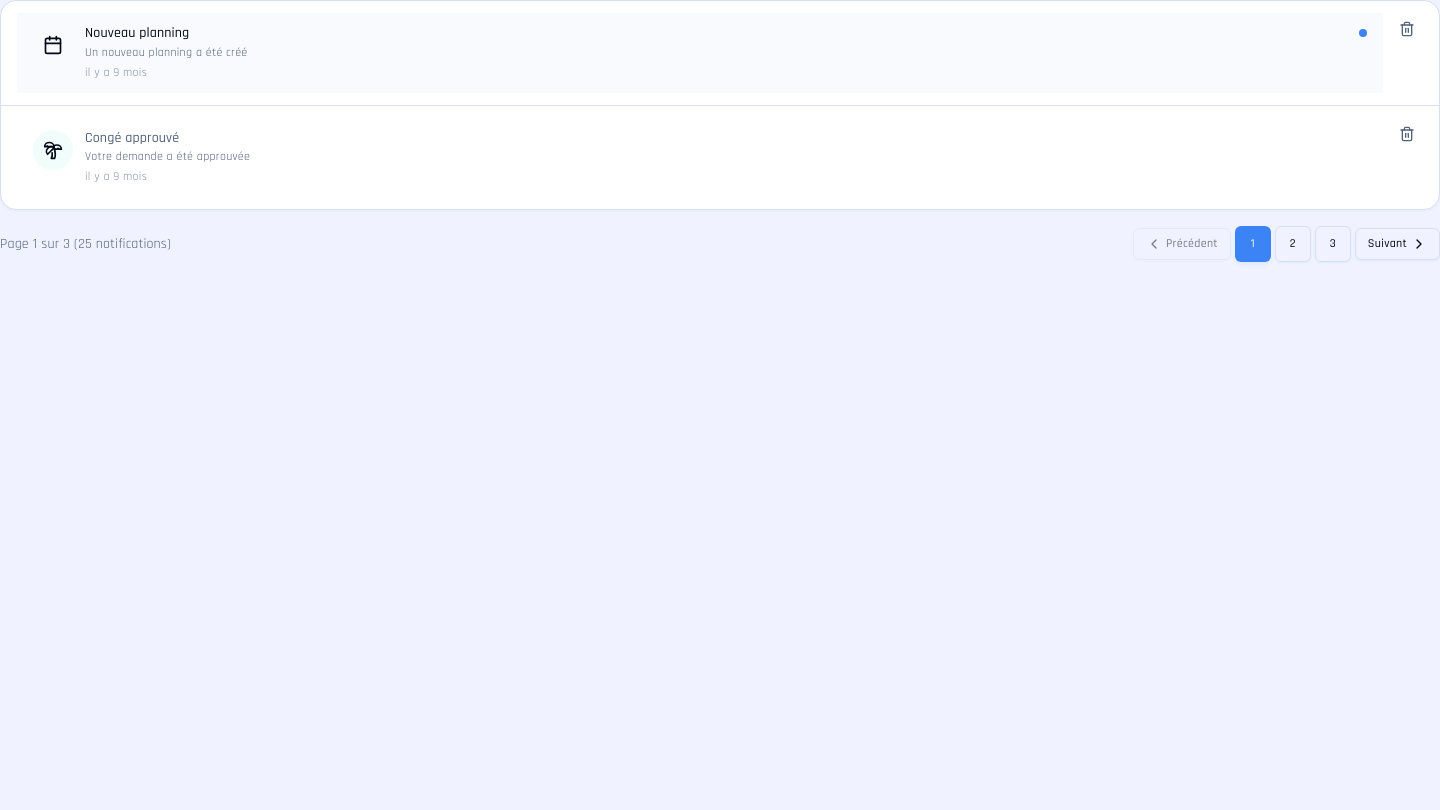
NotificationsTable › devrait ouvrir la dialog de suppression au clic
What coordinates should you click on to do the following:
click the button with test id "delete-notification-notif-1"
I would click on:
 (1407, 29)
Its box is top-left (1391, 13), bottom-right (1423, 45).
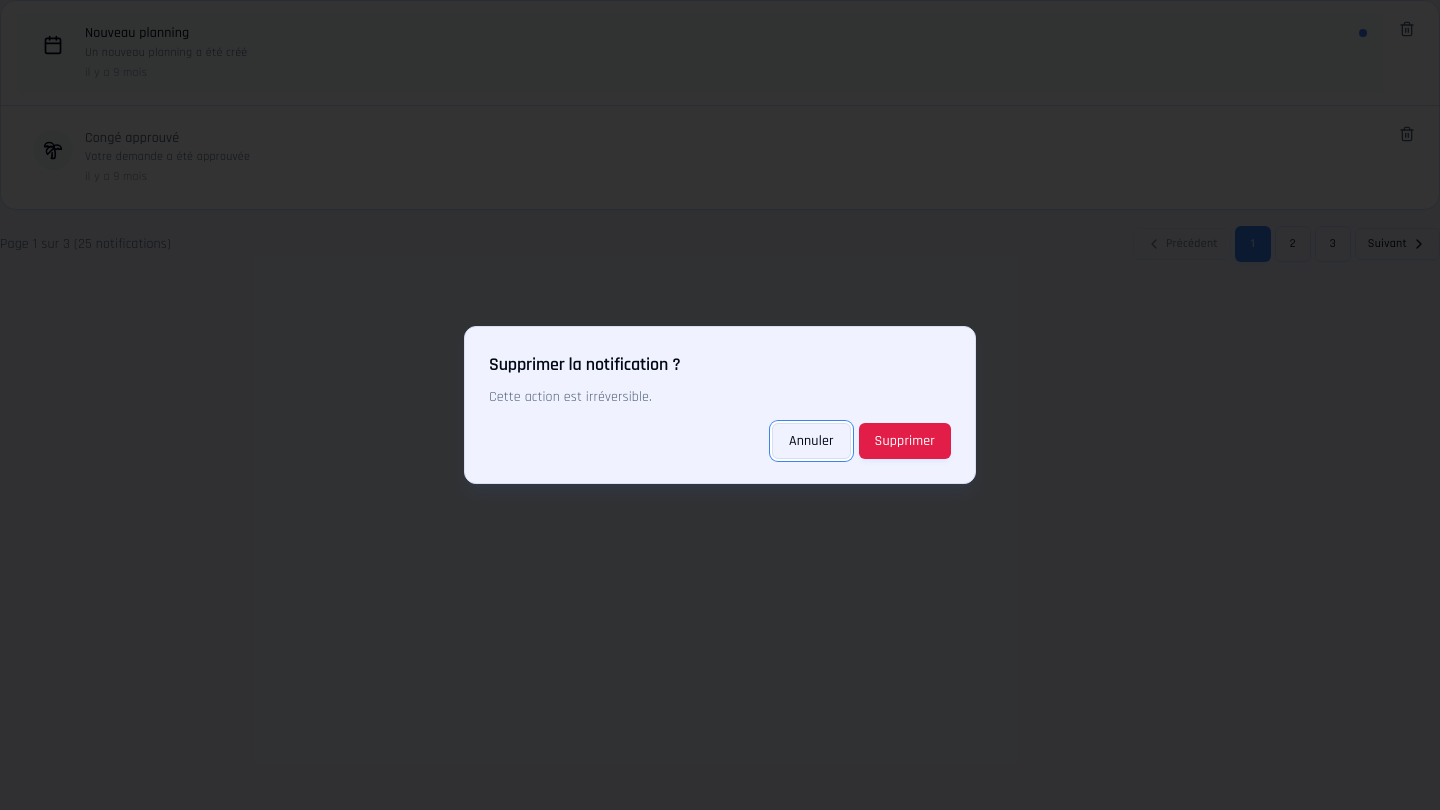
Check: the dialog is shown, box top-left (464, 326), bottom-right (976, 484)
Check: the heading "Supprimer la notification ?" is shown, box top-left (489, 353), bottom-right (680, 376)
